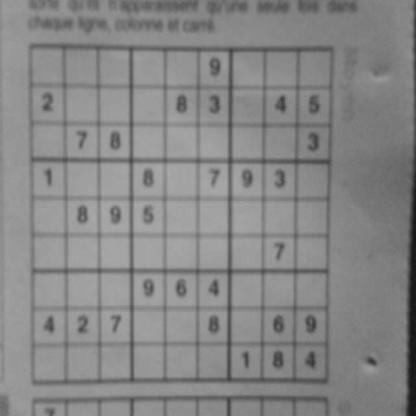sudoku: (26, 40, 338, 390)
